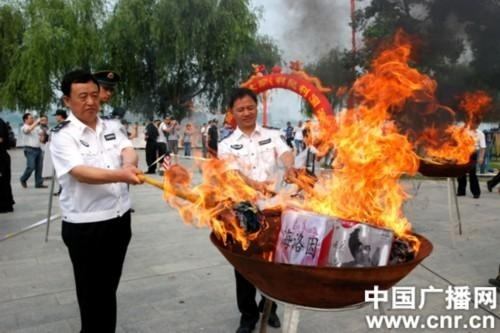fire: (235, 24, 490, 242), (160, 152, 271, 254)
